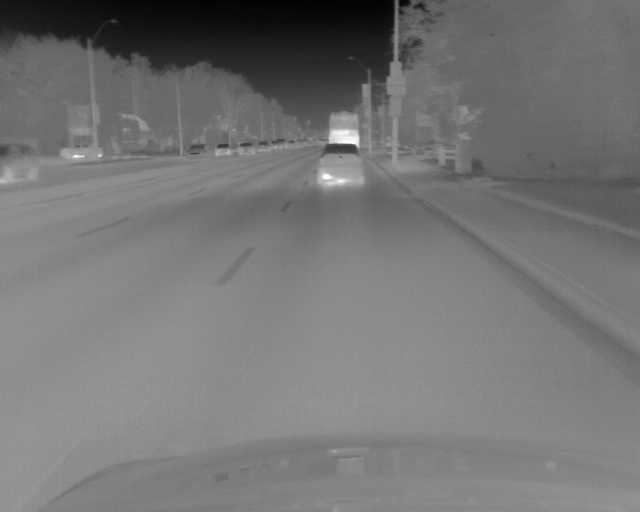car: (318, 143, 364, 188), (1, 140, 40, 184), (327, 110, 360, 145), (56, 142, 100, 161), (186, 143, 207, 160), (214, 143, 231, 157), (238, 144, 253, 156), (256, 141, 270, 153), (271, 141, 280, 153)
